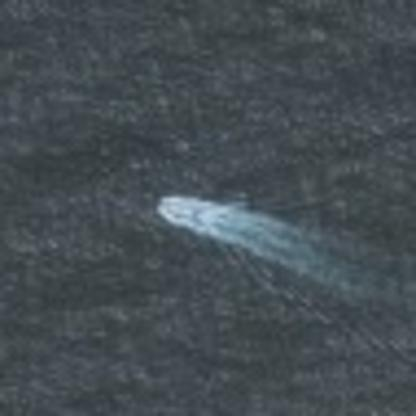ship: (149, 187, 221, 240)
